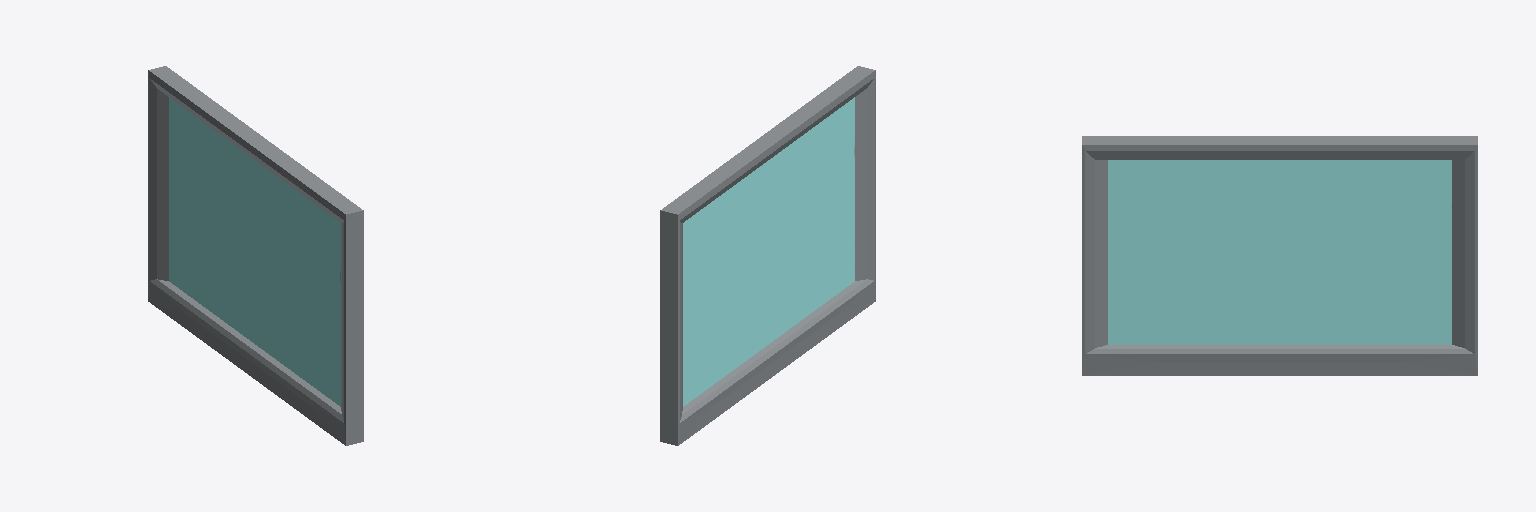
3 views of the same model, side by side, from view 1: azimuth 30°, elevation 25°; view 2: azimuth 150°, elevation 25°; view 3: azimuth 270°, elevation 25° (orthographic).
Visible parts, largest first — view 1: wallwindow:pCube1; view 2: wallwindow:pCube1; view 3: wallwindow:pCube1.
Boxes of the visible parts, x1=… form: wallwindow:pCube1: x1=148, y1=66, x2=363, y2=445; wallwindow:pCube1: x1=660, y1=66, x2=875, y2=445; wallwindow:pCube1: x1=1082, y1=136, x2=1477, y2=375.
Bounding box in the file's own units: 0.2985 × 3.64 × 5.63.
1 materials, 1 textured.